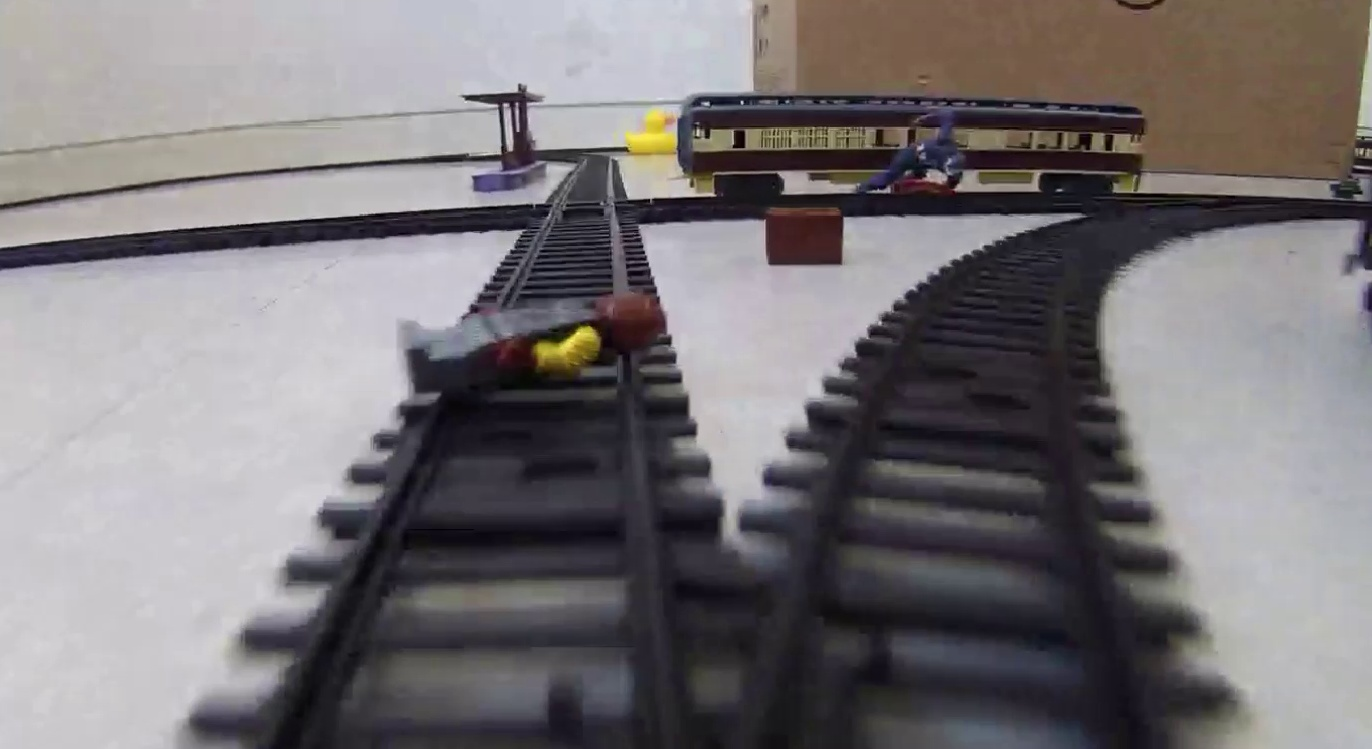people: (397, 288, 673, 396)
